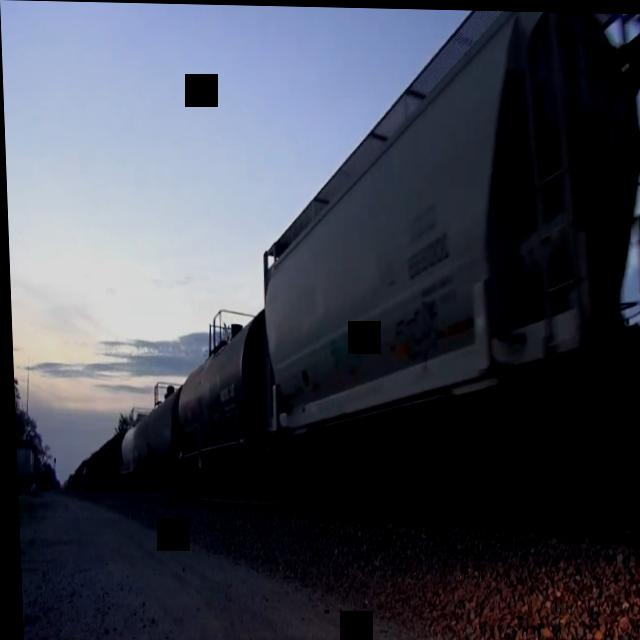hopper: (242, 4, 640, 533)
tank: (167, 301, 265, 501)
